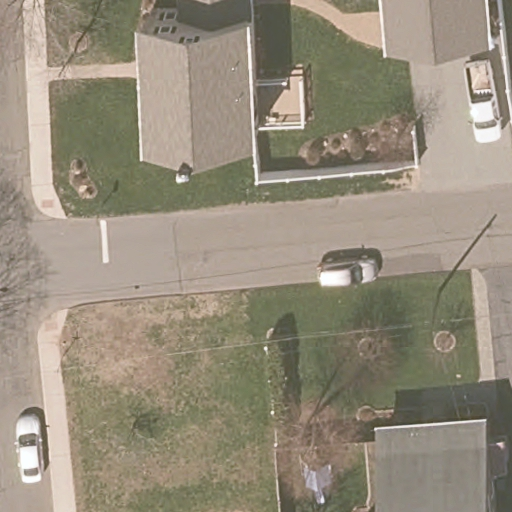DT: (424, 289, 445, 340)
